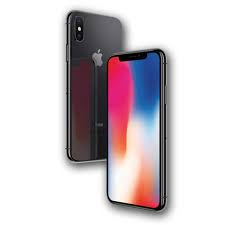iphone: (106, 46, 168, 212)
iphone8: (106, 46, 168, 212)
